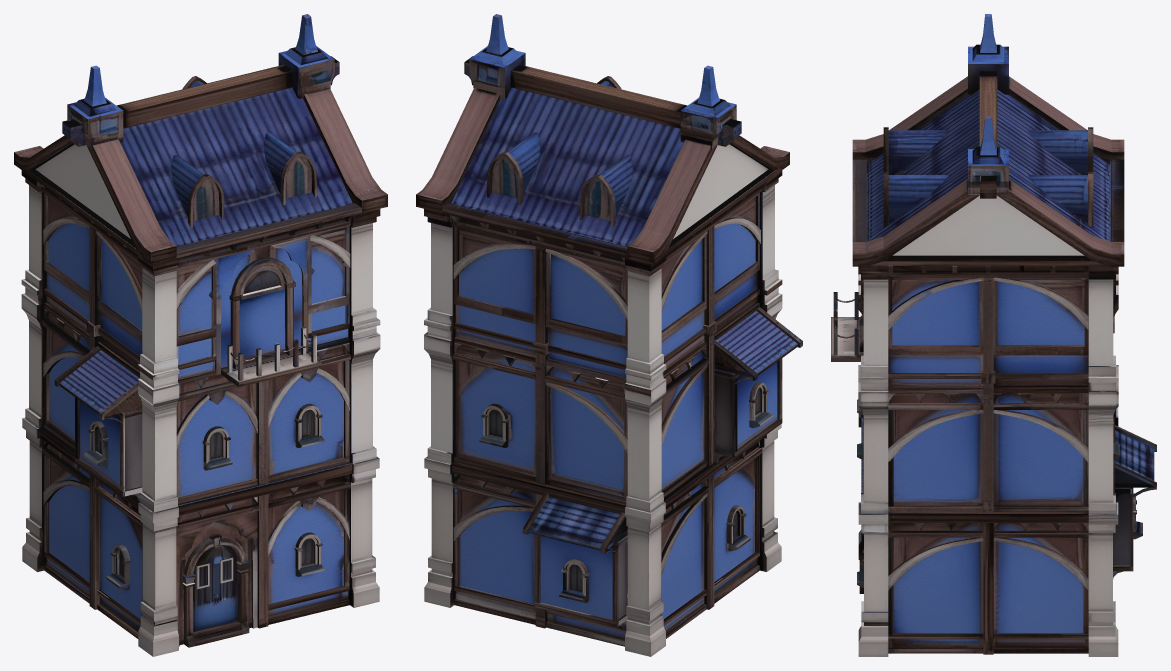
3 renders of one model, left to right at view 1: azimuth 30°, elevation 25°; view 2: azimuth 150°, elevation 25°; view 3: azimuth 270°, elevation 25°, orthographic.
Parts seen in each view (by area): view 1: model; view 2: model; view 3: model.
Part boxes in pixels (x1=…): model: x1=14, y1=14, x2=387, y2=656; model: x1=416, y1=14, x2=802, y2=656; model: x1=831, y1=14, x2=1156, y2=656.
Size of the model in its own units: 0.5501 by 1 by 0.5514.
1 material, 1 textured.
